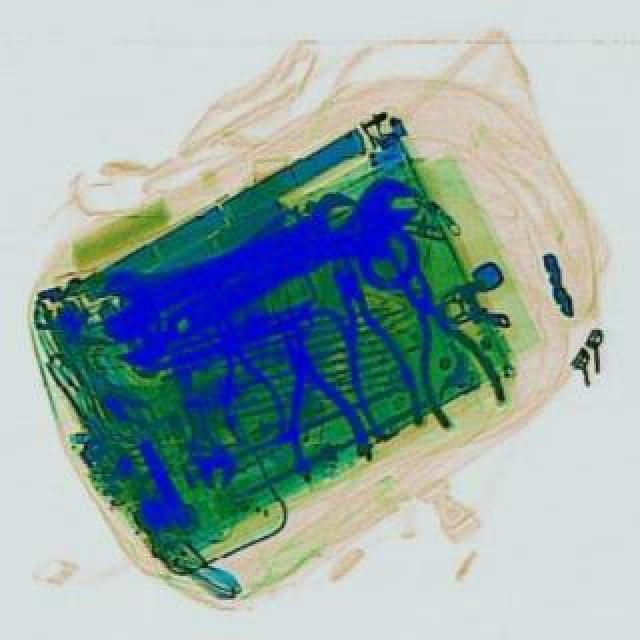scissors: (150, 164, 442, 360), (80, 174, 374, 346), (150, 336, 242, 492)
wrench: (362, 236, 510, 428), (306, 242, 430, 440), (248, 310, 378, 482), (192, 314, 288, 450)
